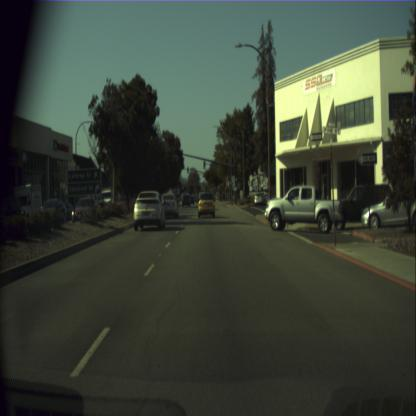Green: (235, 172, 237, 182), (203, 160, 205, 168), (230, 177, 231, 184)
Red: (194, 172, 196, 178)
